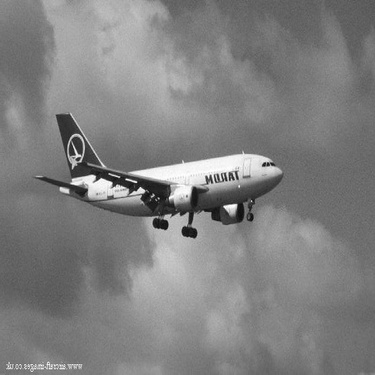airplane: (30, 105, 283, 239)
